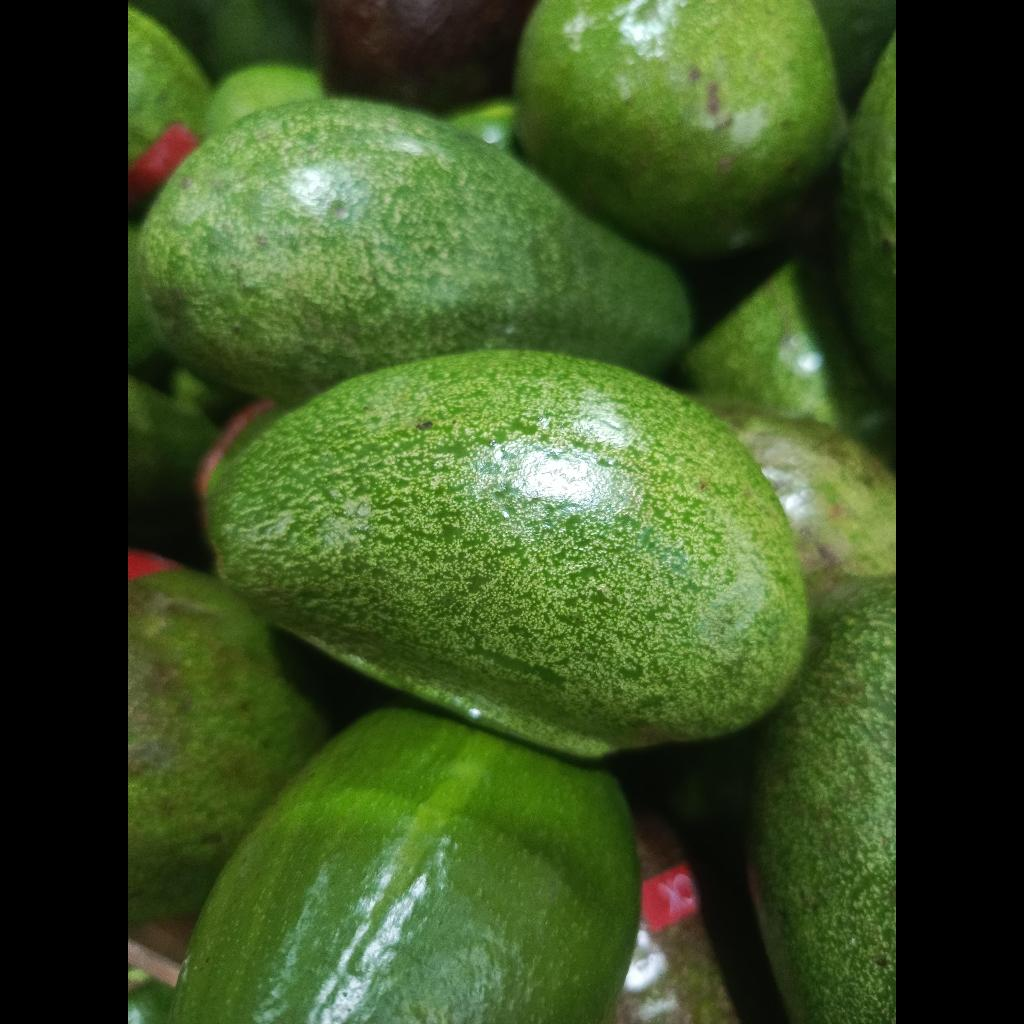fruto_sano: (208, 351, 806, 757), (139, 99, 691, 405), (170, 707, 639, 1024)
